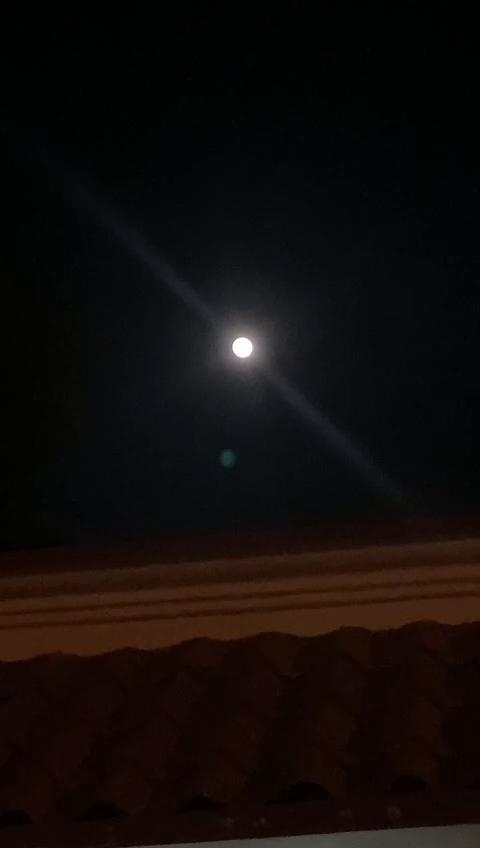moon: (233, 331, 262, 357)
